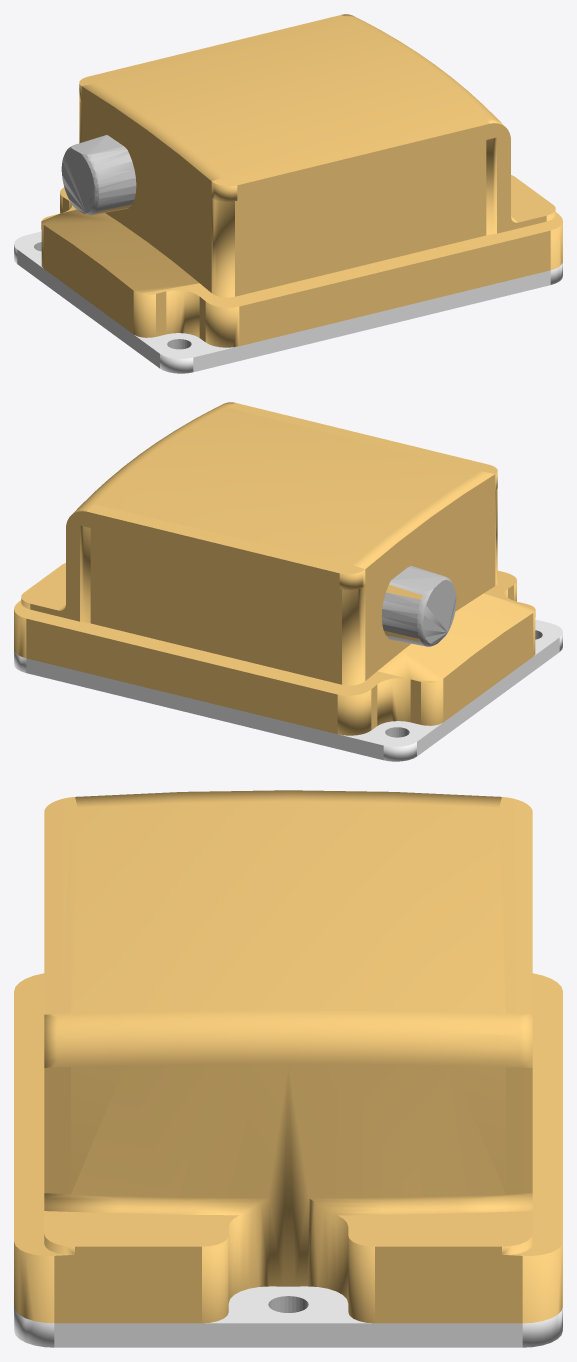
File: mti-30.dae
3 views of the same model, one above another, from view 1: azimuth 30°, elevation 25°; view 2: azimuth 150°, elevation 25°; view 3: azimuth 270°, elevation 25° (orthographic). The views are drawn at different scales.
Parts seen in each view (by area): view 1: Body; view 2: Body; view 3: Body.
Part boxes in pixels (bbox=[...]): Body: bbox=[14, 14, 562, 373]; Body: bbox=[14, 402, 562, 761]; Body: bbox=[14, 790, 562, 1347].
Bounding box in the file's own units: 0.0565 × 0.0409 × 0.0233.
